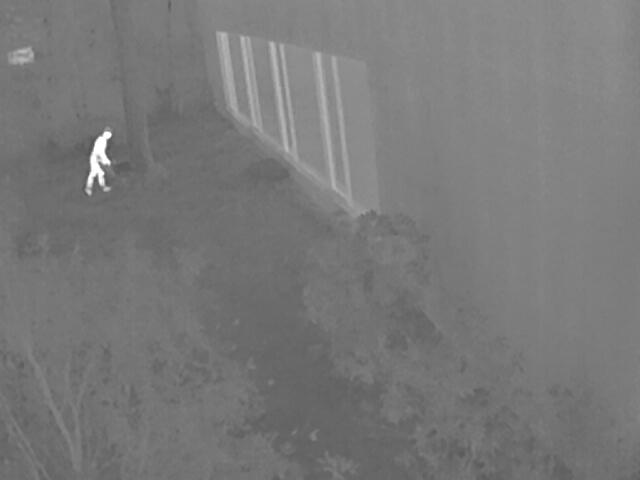person: (84, 126, 112, 196)
